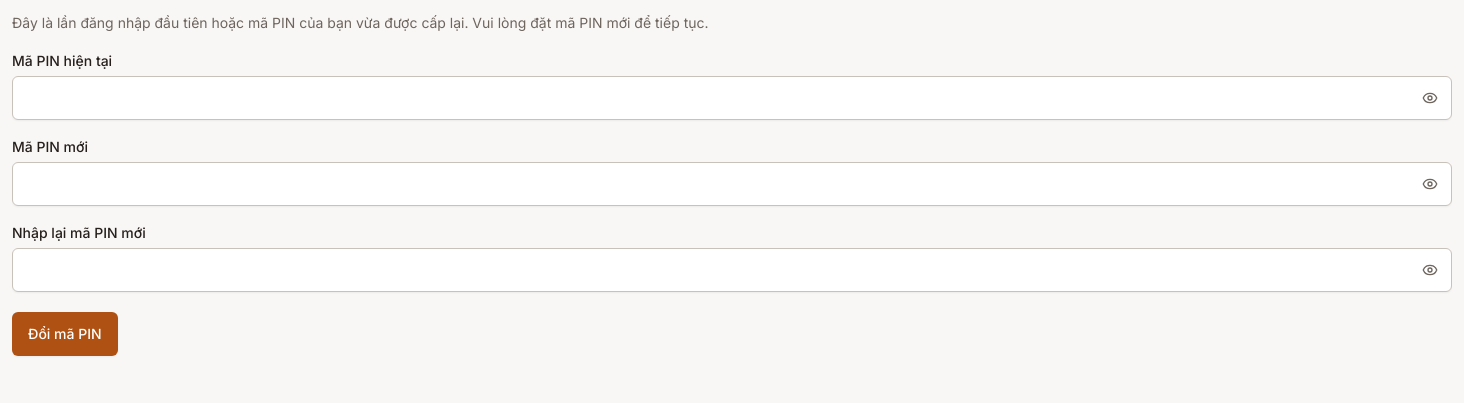
ChangePinForm › requires the confirmation to match
This screenshot has width=1464, height=403.
In the password field labelled "Mã PIN hiện tại": (732, 98) top-left (12, 76), bottom-right (1452, 120), type "123456"
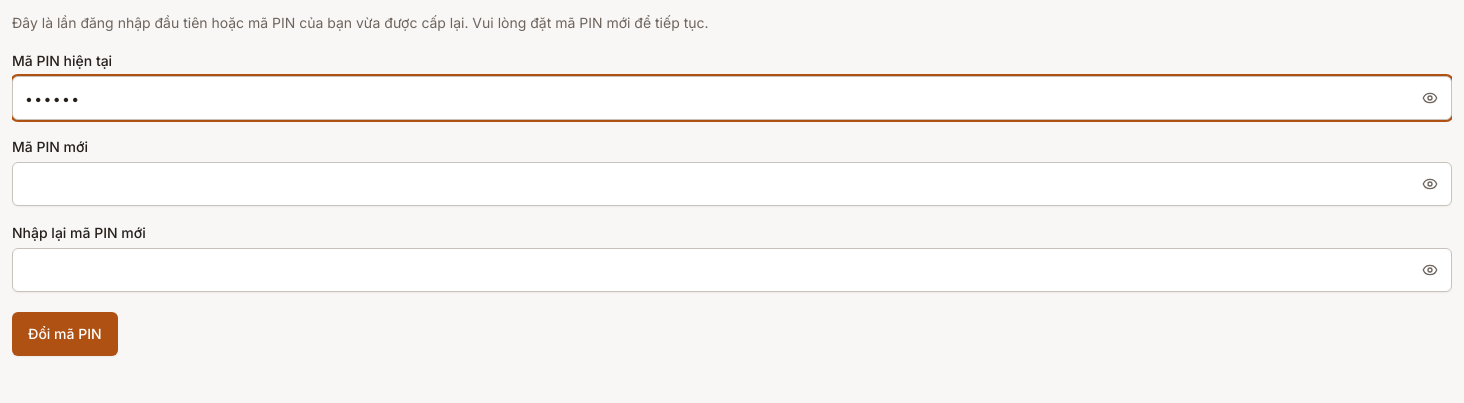
In the password field labelled "Mã PIN mới": (732, 184) top-left (12, 162), bottom-right (1452, 206), type "654321"
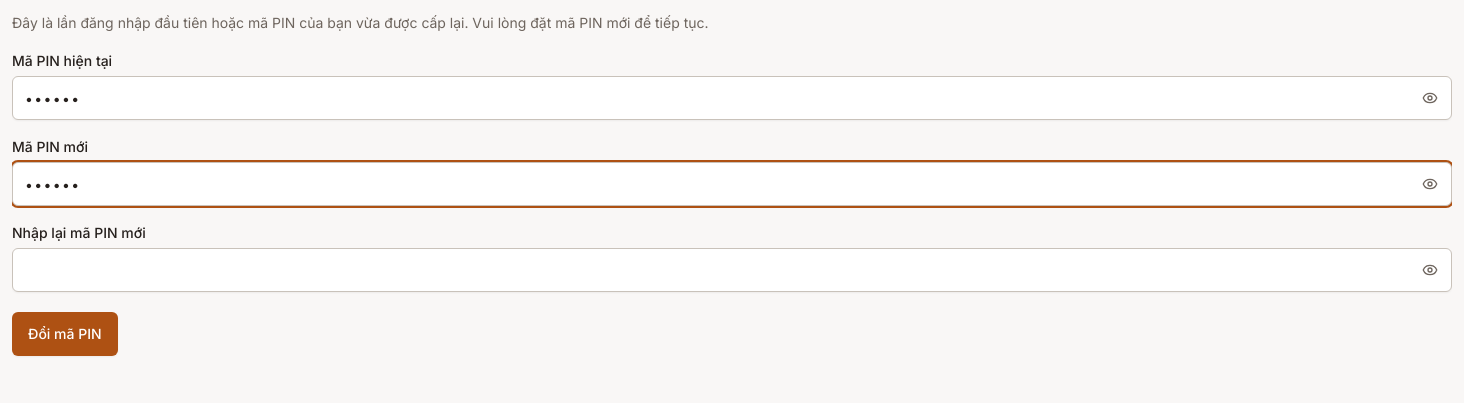
In the password field labelled "Nhập lại mã PIN mới": (732, 270) top-left (12, 248), bottom-right (1452, 292), type "654322"
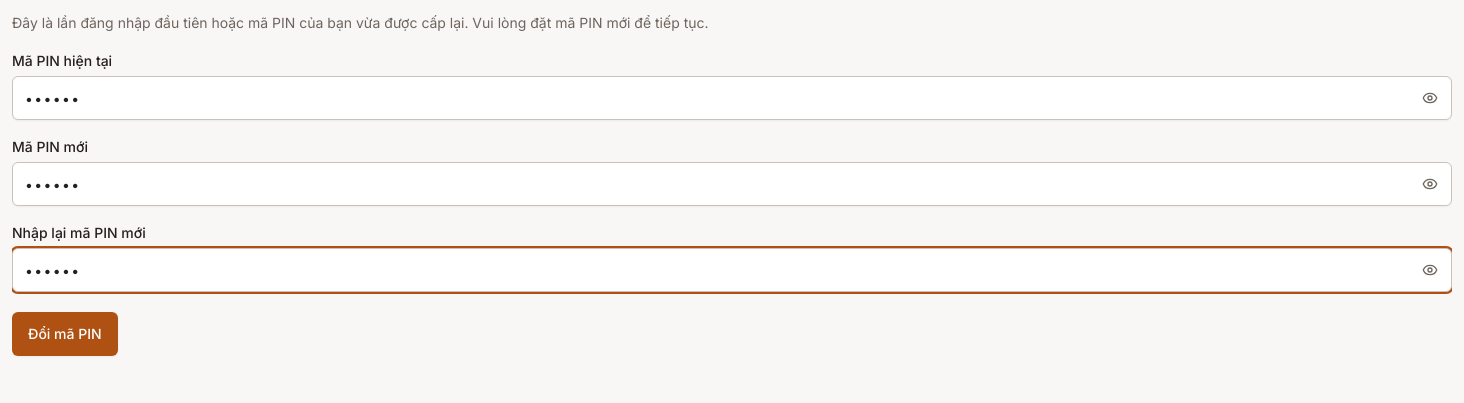
Click the button "Đổi mã PIN": (65, 334) top-left (12, 312), bottom-right (118, 356)
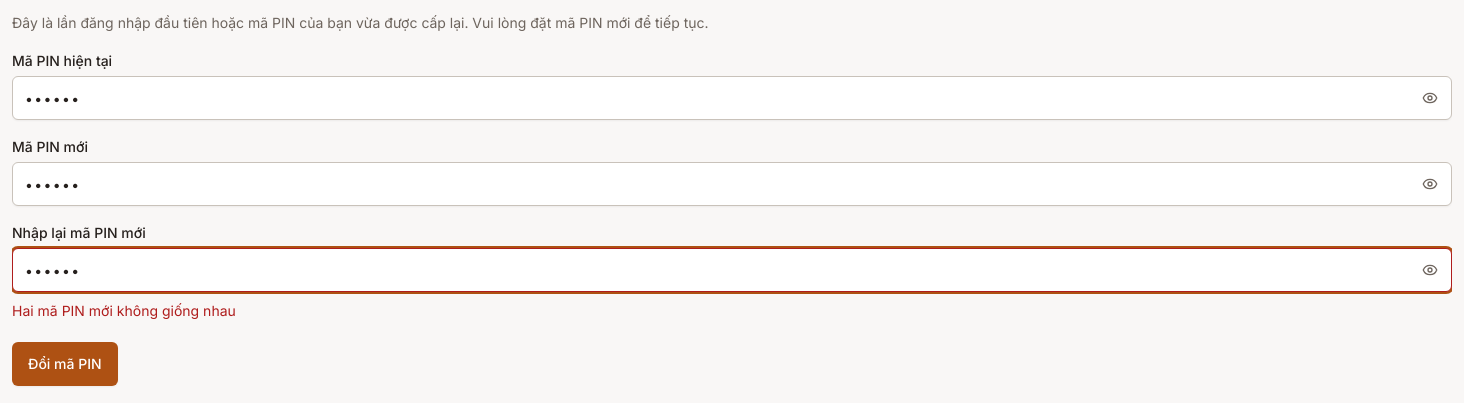
Expected: the text "Hai mã PIN mới không giống nhau" is shown, top-left (12, 302), bottom-right (236, 319)
